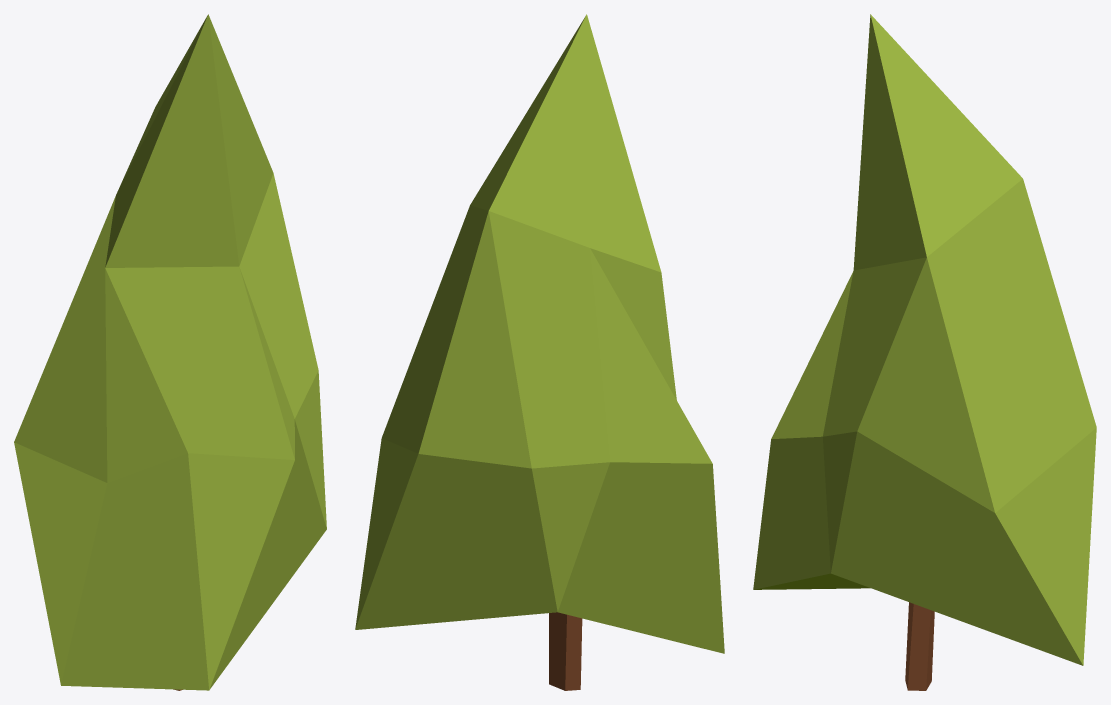
Rendered from TreeAutumn8_Alt2.fbx.
3 views of the same model, side by side, from view 1: azimuth 30°, elevation 25°; view 2: azimuth 150°, elevation 25°; view 3: azimuth 270°, elevation 25° (orthographic). The views are drawn at different scales.
Visible parts, largest first — view 1: TreeAutumn8_Alt2; view 2: TreeAutumn8_Alt2; view 3: TreeAutumn8_Alt2.
Part boxes in pixels (x1=…): TreeAutumn8_Alt2: x1=14, y1=14, x2=326, y2=690; TreeAutumn8_Alt2: x1=355, y1=14, x2=724, y2=690; TreeAutumn8_Alt2: x1=753, y1=14, x2=1096, y2=690.
Size of the model in its own units: 1.32 by 2.74 by 1.27.
